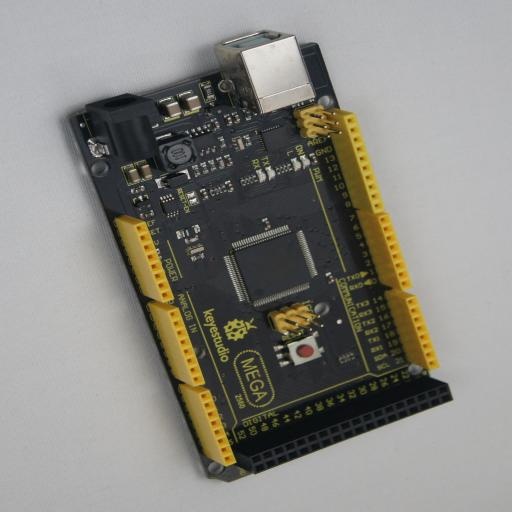ARMCORTEXM3: (60, 32, 453, 482)
